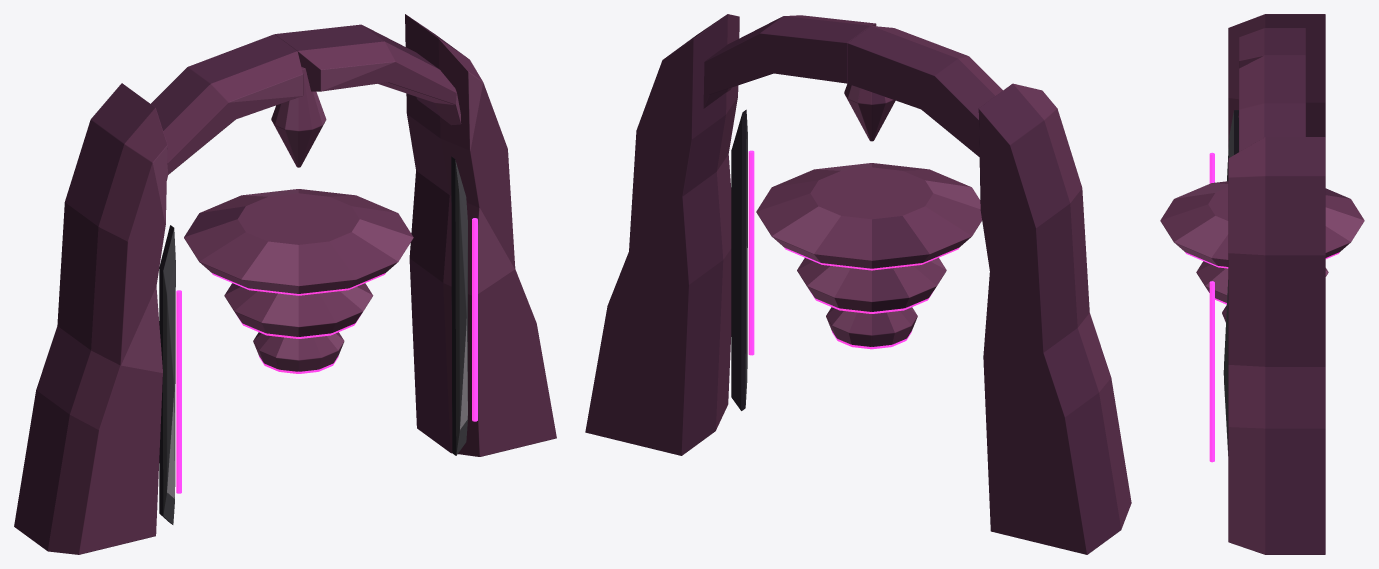
Rendered from Gatekeeper.fbx.
3 renders of one model, left to right at view 1: azimuth 30°, elevation 25°; view 2: azimuth 150°, elevation 25°; view 3: azimuth 270°, elevation 25°, orthographic. The views are drawn at different scales.
Visible parts, largest first — view 1: Armor 1, Armor 4, Armor 7, Armor 2, Armor 3, Armor 5, Armor 6, Armor 8; view 2: Armor 1, Armor 4, Armor 7, Armor 3, Armor 5, Armor 6, Armor 2, Armor 8; view 3: Armor 4, Armor 7, Armor 6, Armor 1, Armor 3, Armor 5, Armor 2.
Boxes of the visible parts, left/top/right/bottom form: Armor 1: left=14, top=83, right=167, bottom=554; Armor 4: left=405, top=14, right=556, bottom=456; Armor 7: left=184, top=189, right=413, bottom=295; Armor 2: left=159, top=225, right=373, bottom=524; Armor 3: left=151, top=34, right=303, bottom=180; Armor 5: left=238, top=156, right=477, bottom=455; Armor 6: left=275, top=24, right=461, bottom=125; Armor 8: left=271, top=67, right=326, bottom=167; Armor 1: left=978, top=83, right=1131, bottom=554; Armor 4: left=585, top=14, right=739, bottom=455; Armor 7: left=756, top=163, right=981, bottom=270; Armor 3: left=847, top=26, right=1002, bottom=156; Armor 5: left=731, top=109, right=933, bottom=410; Armor 6: left=703, top=15, right=876, bottom=108; Armor 2: left=797, top=258, right=946, bottom=311; Armor 8: left=844, top=83, right=895, bottom=141; Armor 4: left=1228, top=137, right=1325, bottom=554; Armor 7: left=1160, top=181, right=1364, bottom=268; Armor 6: left=1239, top=55, right=1305, bottom=151; Armor 1: left=1228, top=14, right=1325, bottom=148; Armor 3: left=1239, top=28, right=1305, bottom=68; Armor 5: left=1209, top=280, right=1228, bottom=462; Armor 2: left=1196, top=110, right=1328, bottom=302.
Size of the model in its own units: 0.2599 by 0.219 by 0.1037.
